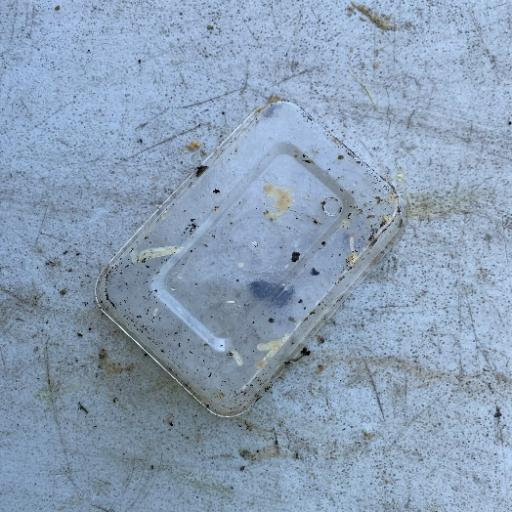Plastic: (92, 97, 406, 420)
